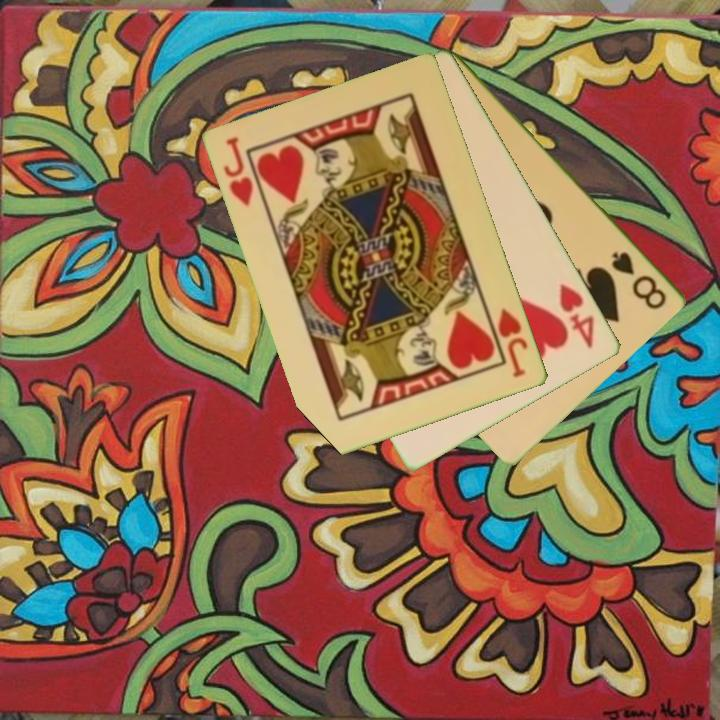4h: (556, 279, 598, 352)
8s: (608, 247, 670, 313)
Jh: (494, 305, 531, 381), (220, 134, 257, 210)
